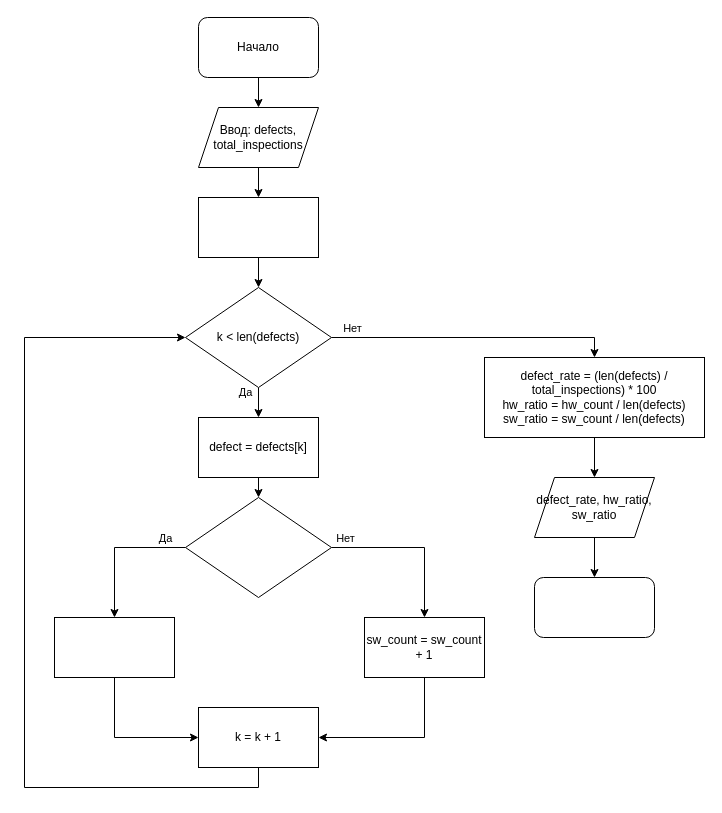
Some shapes in this 722 by 813 pixel diagram are drawn without their labels. Here are the shapes that lost their labels. From the top down, the box of each, then its label:
(198, 196, 318, 258): hw_count = 0 sw_count = 0 k = 0
(184, 496, 332, 598): defect['type'] == 'hardware'
(534, 576, 654, 638): Конец
(54, 616, 174, 678): hw_count = hw_count + 1
